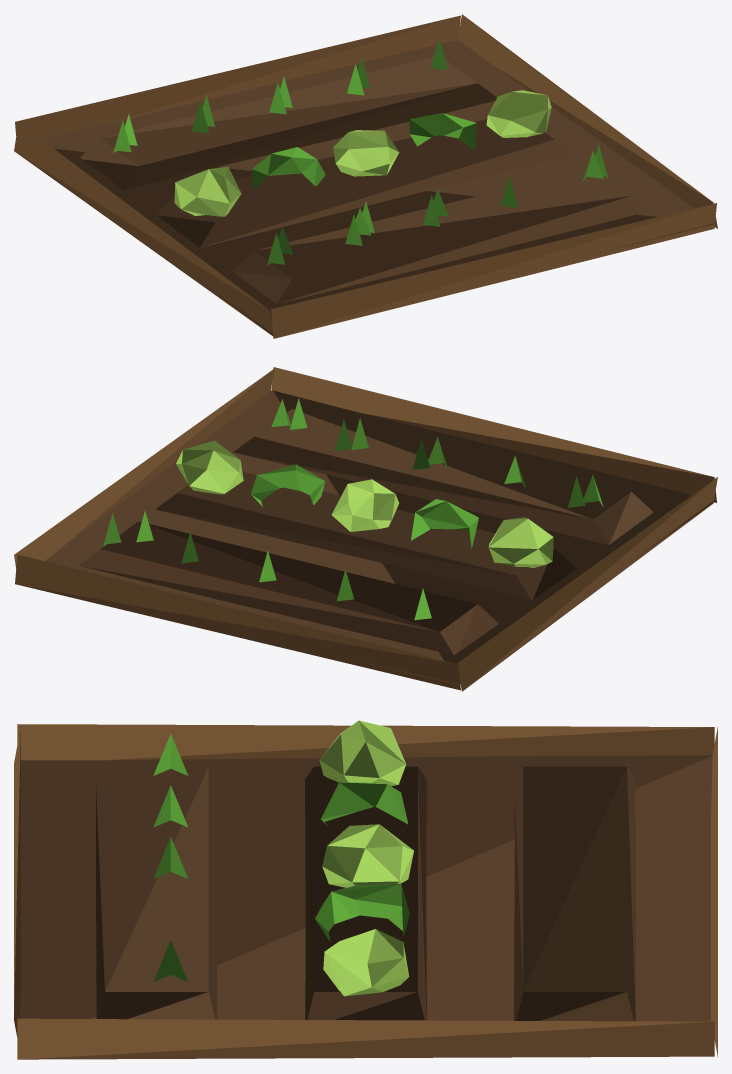
File: garden_plot_1_lod1.glb
3 views of the same model, one above another, from view 1: azimuth 30°, elevation 25°; view 2: azimuth 150°, elevation 25°; view 3: azimuth 270°, elevation 25° (orthographic). The views are drawn at different scales.
Visible parts, largest first — view 1: garden_plot_1_lod1; view 2: garden_plot_1_lod1; view 3: garden_plot_1_lod1.
Boxes of the visible parts, box(x1,y1,x2,y2) form: garden_plot_1_lod1: box(14, 14, 717, 338); garden_plot_1_lod1: box(14, 367, 717, 691); garden_plot_1_lod1: box(14, 720, 717, 1059).
Size of the model in its own units: 4.04 by 0.5347 by 4.04.
